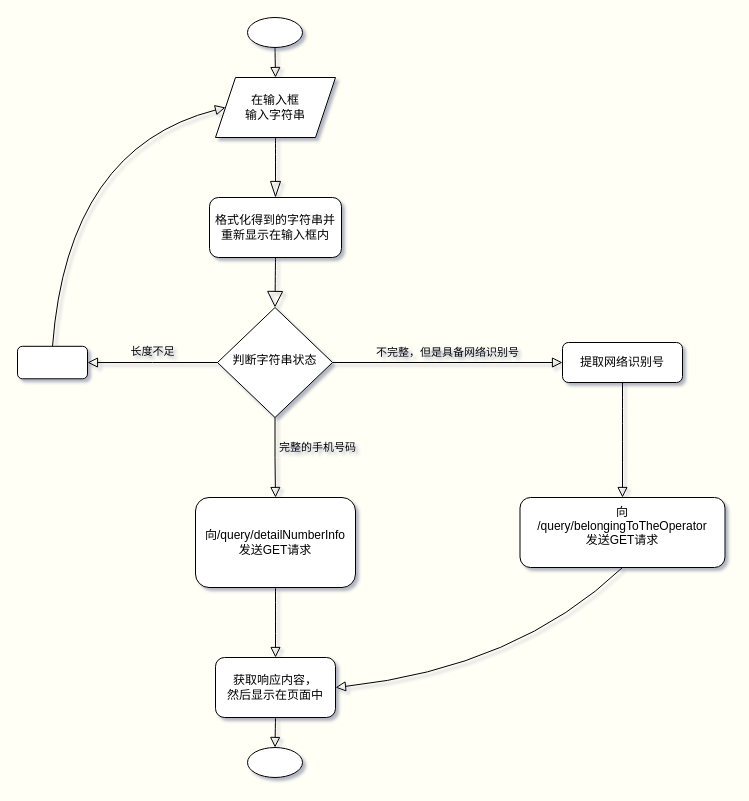
The diagram is 749 pixels wide and 801 high, and some of its shapes have lost their labels. The shapes that lost their labels are listed below. From the top down, each one's centre as x and y in pixels, then its label:
(274,32): 开始
(52,362): 没有动作
(274,762): 结束
